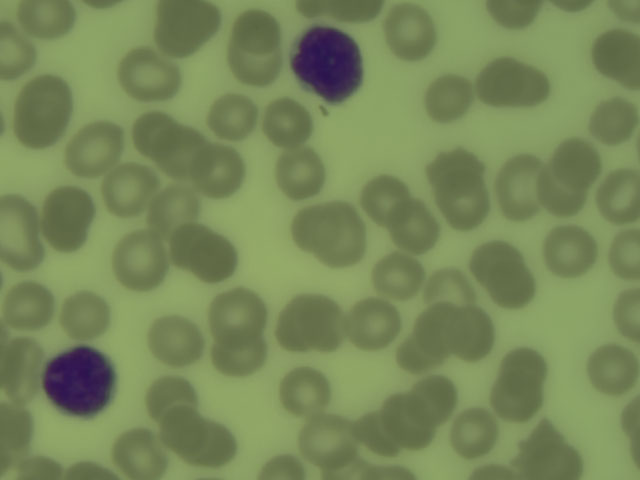RBC: (18, 78, 76, 143), (429, 167, 487, 229), (118, 48, 185, 100), (278, 299, 344, 350), (581, 343, 640, 399), (541, 224, 600, 279), (345, 294, 402, 349), (383, 394, 438, 451), (113, 232, 166, 291), (492, 158, 544, 216), (156, 126, 216, 176), (149, 318, 205, 370), (388, 205, 441, 259), (106, 161, 158, 216), (449, 408, 506, 458), (70, 121, 125, 172), (522, 434, 582, 480), (191, 420, 244, 470), (43, 191, 92, 245), (358, 175, 411, 224), (275, 147, 323, 201), (1, 194, 36, 267), (227, 43, 285, 87), (413, 305, 464, 355), (492, 370, 542, 421), (116, 430, 166, 480), (551, 134, 602, 183), (260, 101, 313, 148), (153, 191, 202, 241), (592, 27, 640, 78), (298, 416, 352, 461), (389, 7, 438, 56), (160, 408, 213, 453), (374, 256, 427, 301), (500, 343, 555, 386), (194, 235, 243, 283), (211, 338, 267, 380), (3, 280, 54, 326), (405, 376, 459, 419), (216, 291, 264, 339), (290, 210, 338, 258), (428, 266, 474, 315), (597, 170, 640, 222), (392, 331, 446, 372), (591, 98, 640, 143), (153, 18, 210, 56), (170, 224, 217, 270), (449, 315, 497, 360), (200, 147, 243, 197), (209, 97, 259, 139), (327, 215, 367, 267), (132, 112, 178, 157), (1, 342, 38, 397), (62, 296, 113, 335), (283, 370, 329, 413), (492, 264, 535, 309), (538, 175, 586, 215), (604, 230, 640, 283), (359, 410, 402, 454), (476, 60, 521, 101), (23, 2, 77, 35), (486, 1, 545, 31), (320, 446, 372, 480), (427, 78, 472, 117), (476, 243, 524, 279), (611, 289, 640, 348), (1, 24, 32, 79), (146, 378, 192, 414), (512, 67, 552, 106), (1, 408, 34, 452), (236, 14, 275, 51), (16, 454, 65, 480), (159, 1, 208, 27), (255, 453, 302, 480), (324, 1, 381, 22), (623, 399, 640, 440)
WBC: (292, 25, 371, 107), (43, 345, 127, 420)
